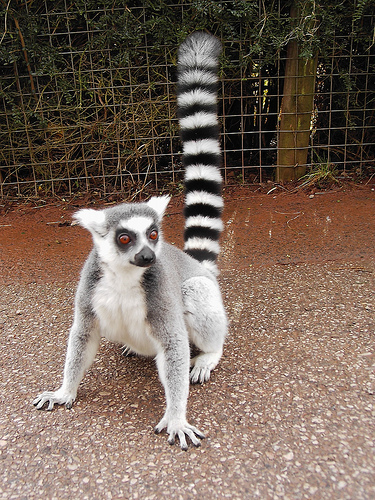cat: (32, 32, 227, 451)
